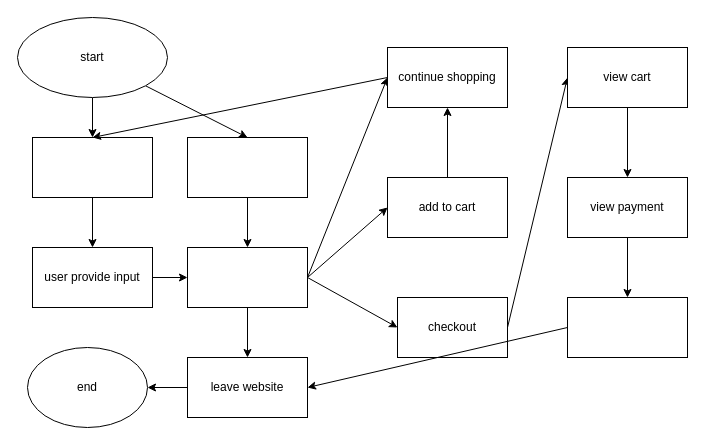
This 705x445 diagram has some shape labels left out. Each missing label, with the centre of its shape:
"exploring" belongs at point (247, 167).
"looking over product" belongs at point (247, 277).
"recieve order confirmation" belongs at point (627, 327).
"searching" belongs at point (92, 167).
